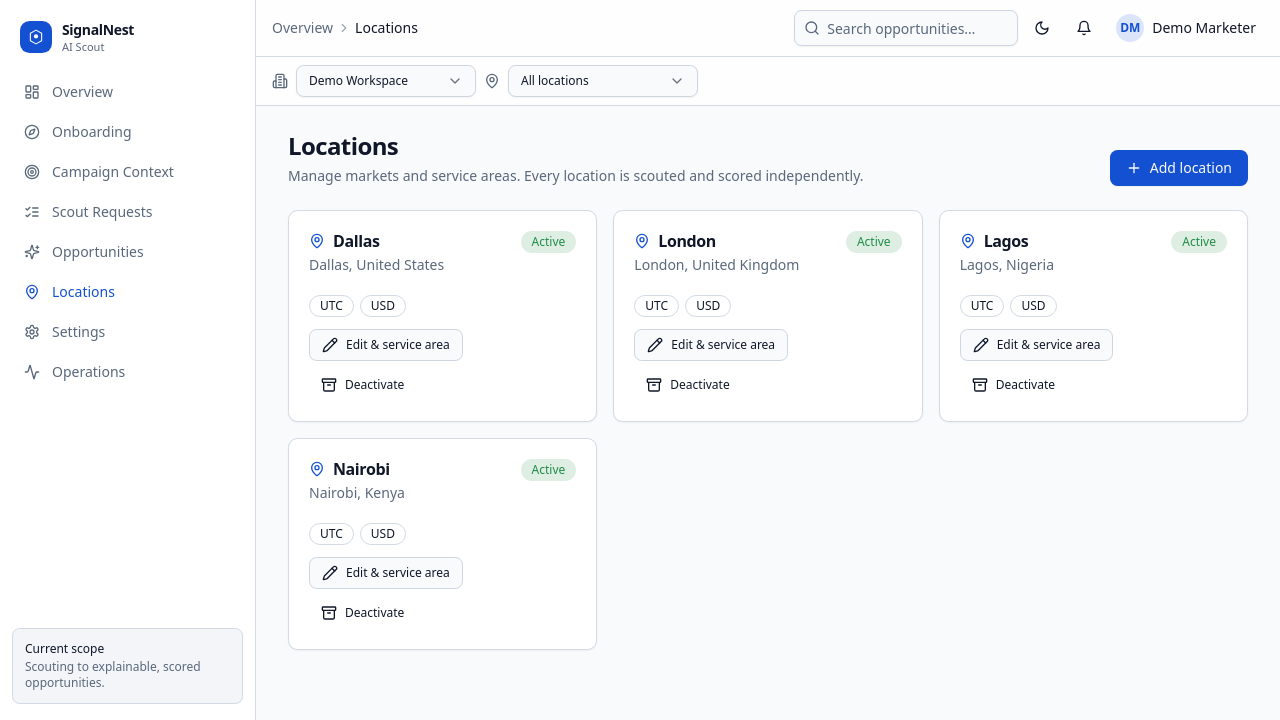
Scenario: location dialog — an unresolvable address is not a dead end › clears the note once a later lookup succeeds
Click the button "Add location" at (1179, 168), box [1110,150,1248,186]
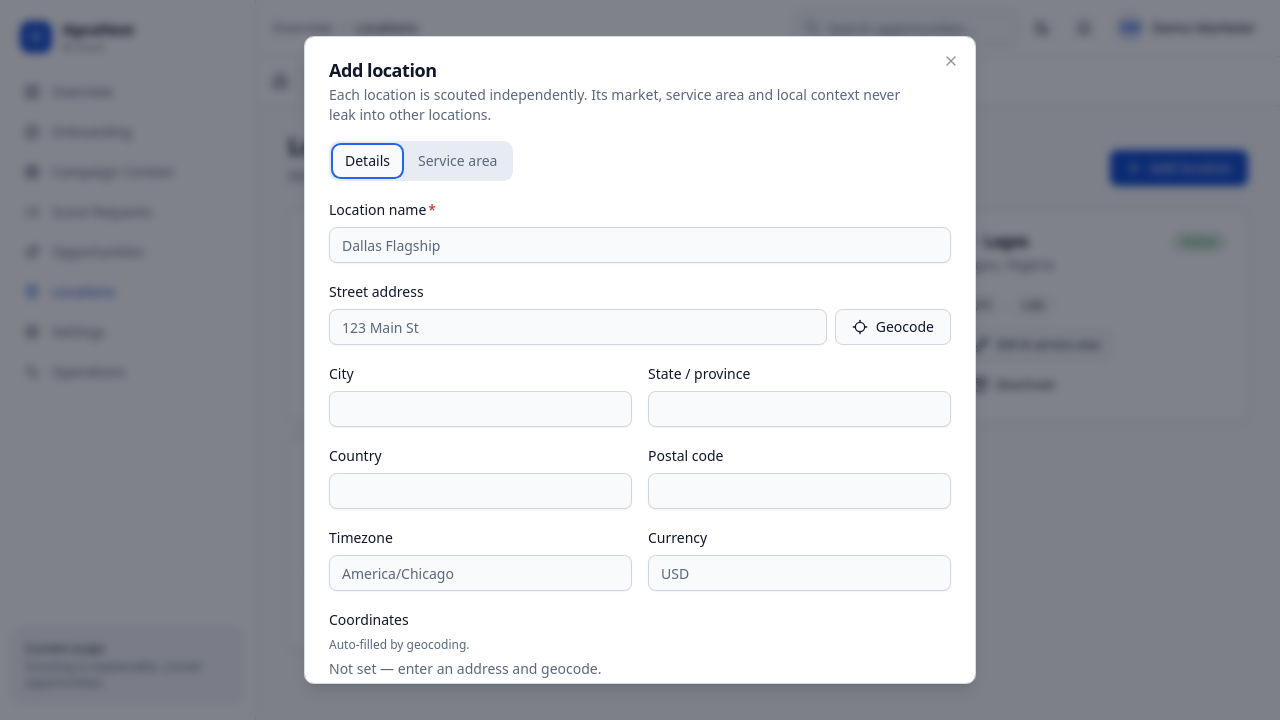
Type "London" into the field labelled "Street address" at (578, 327), box [329,309,827,345]
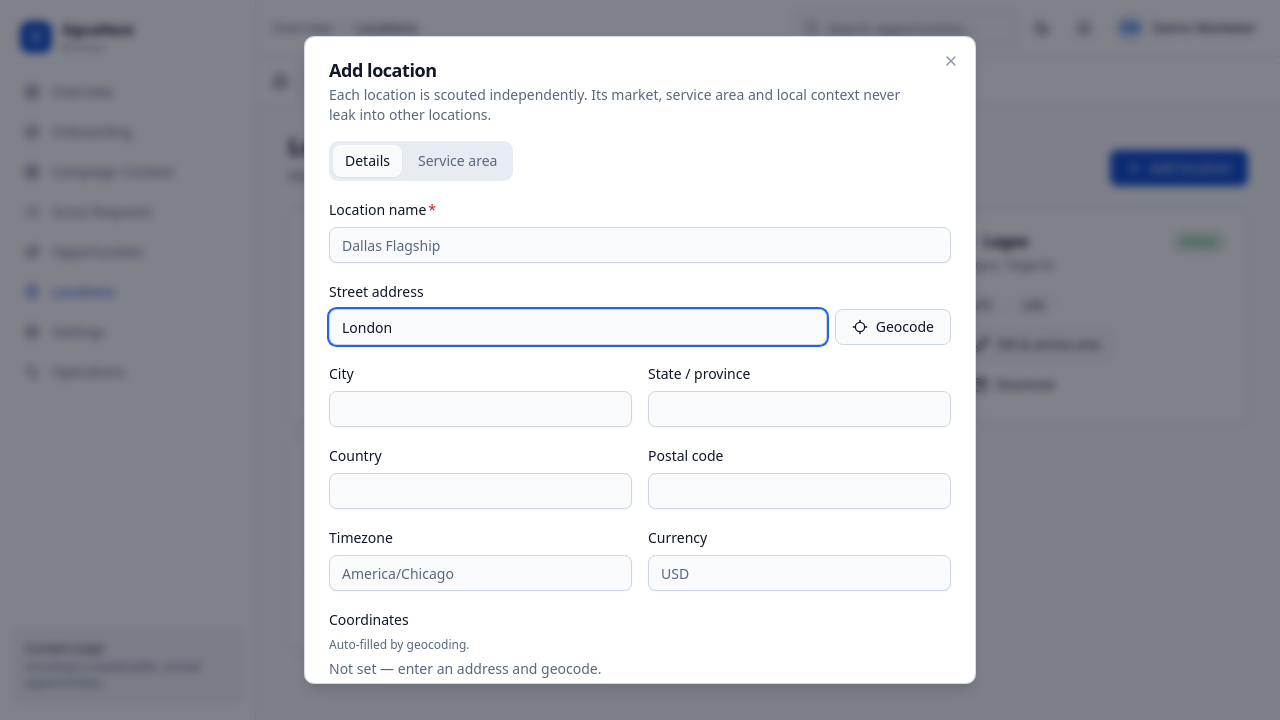
Click the button "Geocode" at (893, 327), box [835,309,951,345]
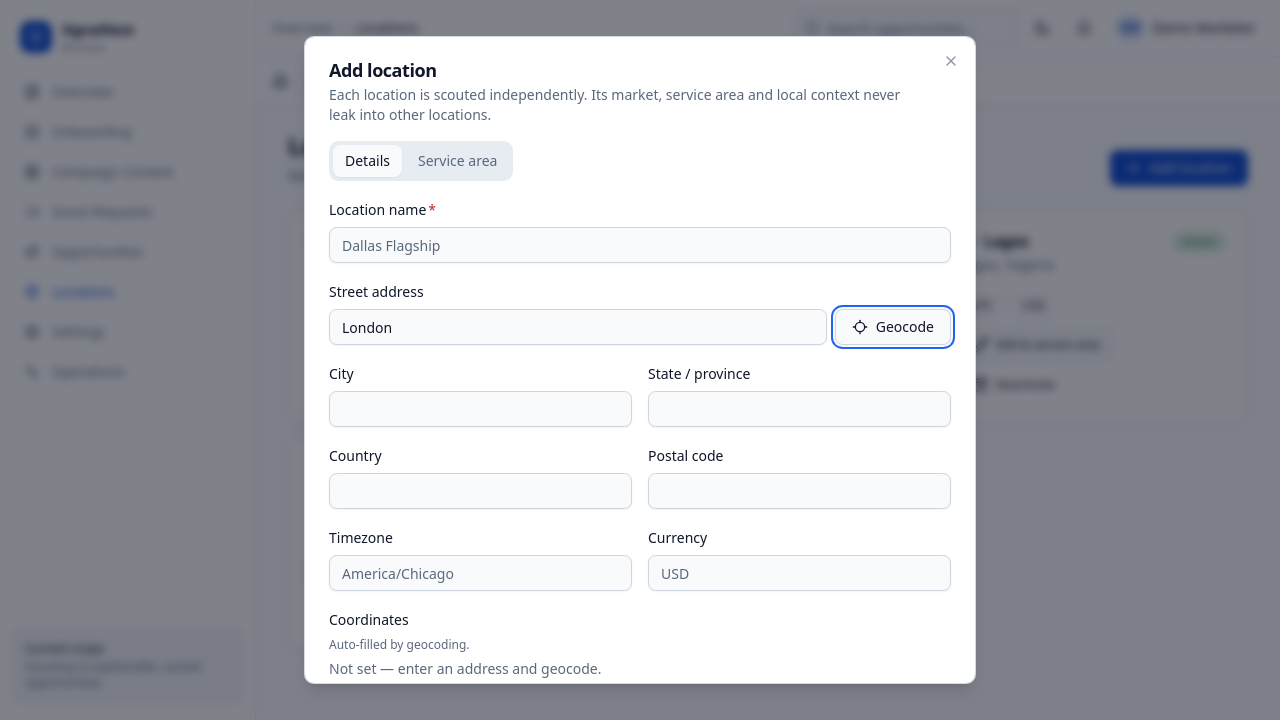
Click the button "Geocode" at (893, 327), box [835,309,951,345]
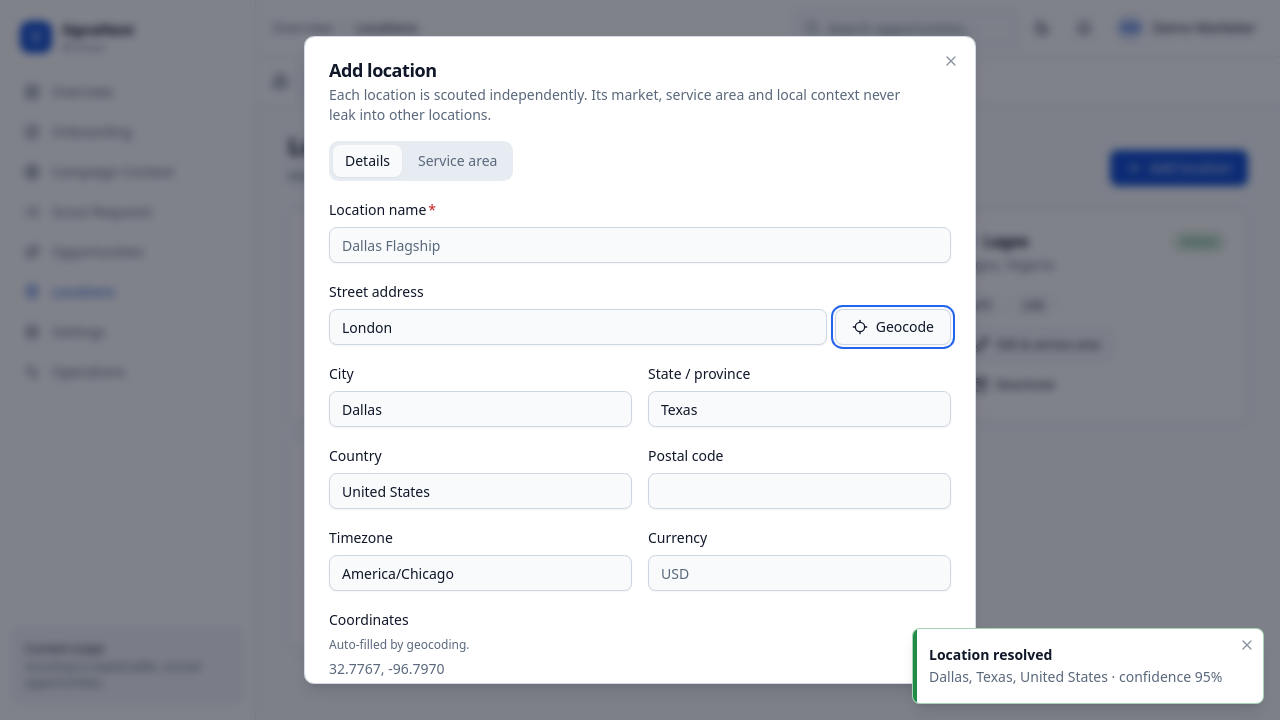
Expected: the text "32.7767, -96.7970" is shown, [329,659,444,678]
Expected: the field labelled "Country" holds "United States", [329,473,632,509]
